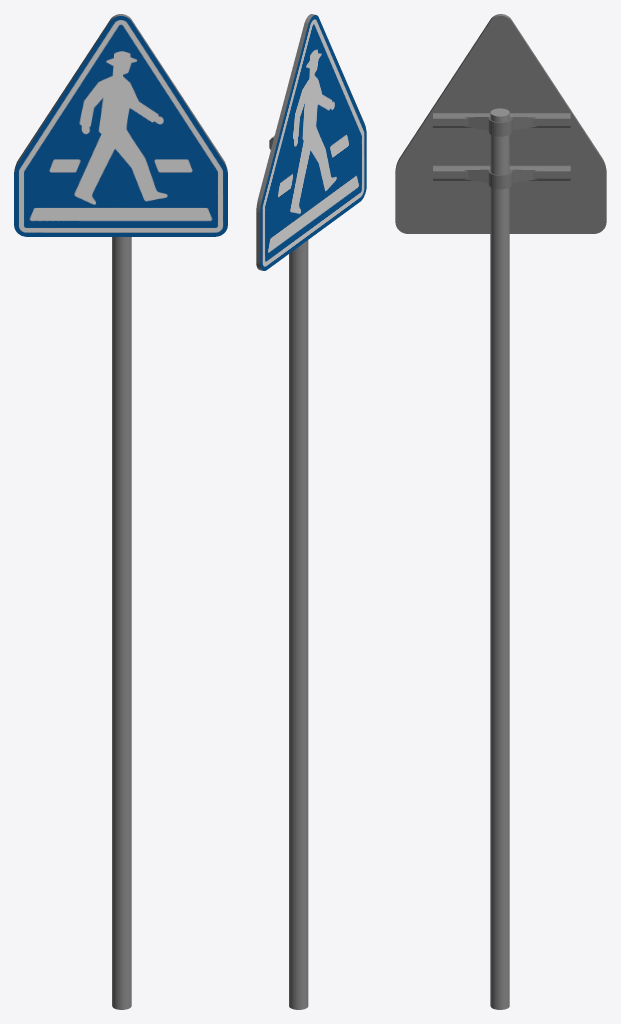
The picture shows the model from 3 angles, left to right: view 1: azimuth 90°, elevation 25°; view 2: azimuth 150°, elevation 25°; view 3: azimuth 270°, elevation 25°; orthographic projection.
Parts seen in each view (by area): view 1: 017, Prop; view 2: 017, Prop; view 3: 017, Prop.
Boxes of the visible parts, bbox=[...] form: 017: bbox=[14, 14, 227, 236]; Prop: bbox=[50, 112, 131, 1009]; 017: bbox=[256, 14, 366, 270]; Prop: bbox=[269, 136, 308, 1009]; 017: bbox=[395, 14, 606, 233]; Prop: bbox=[433, 108, 570, 1009].
Size of the model in its own units: 6.76 by 259 by 50.4.
